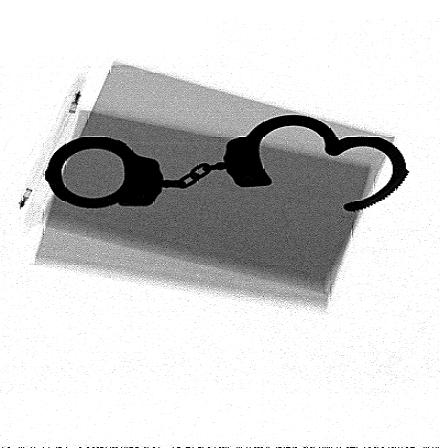HandCuffs: (43, 115, 411, 213)
